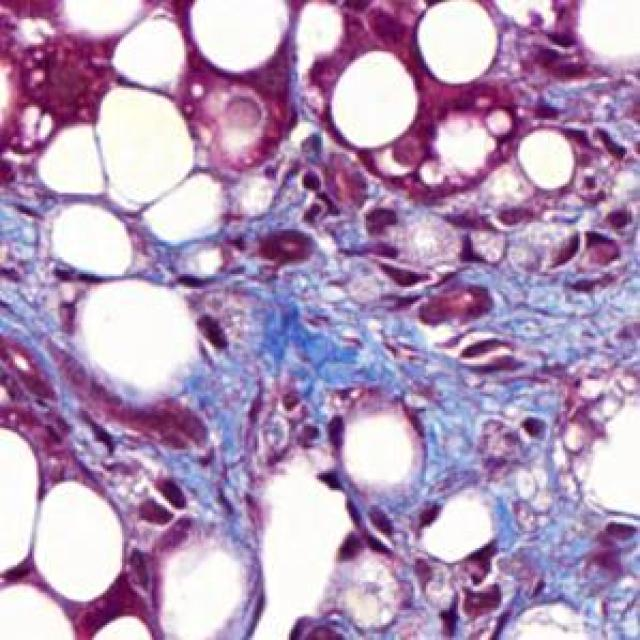steatosis: (334, 53, 422, 152), (418, 0, 494, 86)
